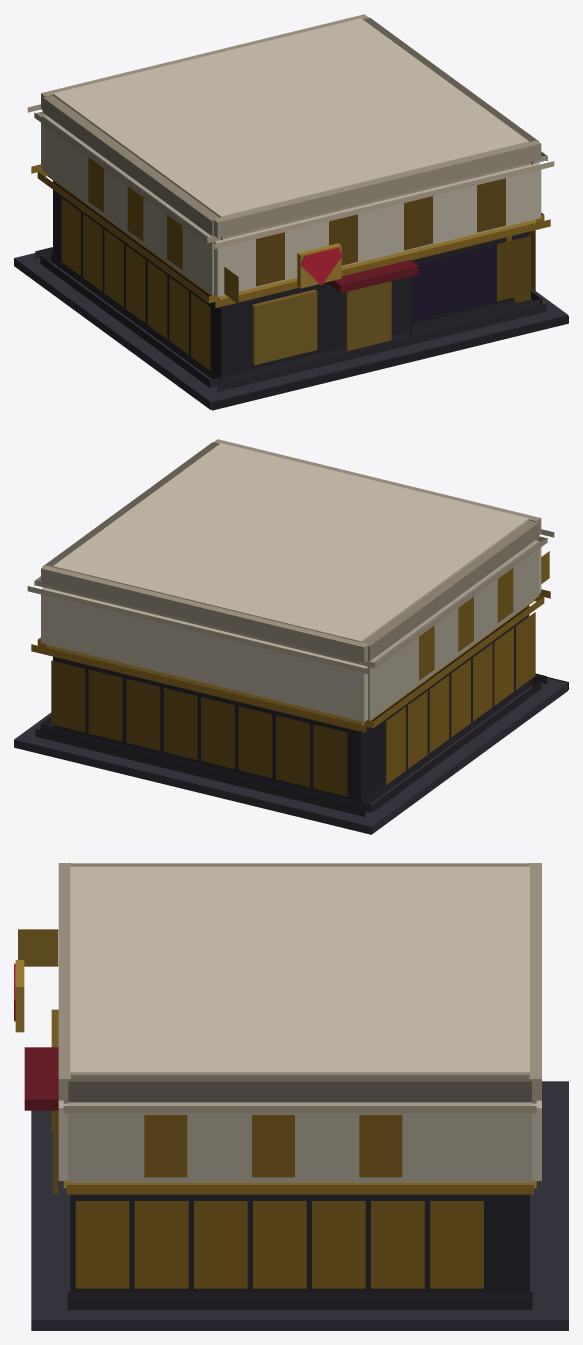
Rendered from RubyThiefSil.fbx.
The picture shows the model from 3 angles, top to bottom: view 1: azimuth 30°, elevation 25°; view 2: azimuth 150°, elevation 25°; view 3: azimuth 270°, elevation 25°; orthographic projection. The views are drawn at different scales.
Parts seen in each view (by area): view 1: JW_S_All; view 2: JW_S_All; view 3: JW_S_All.
Part boxes in pixels (x1=…): JW_S_All: x1=14, y1=14, x2=568, y2=410; JW_S_All: x1=14, y1=439, x2=568, y2=834; JW_S_All: x1=14, y1=863, x2=568, y2=1330.
Bounding box in the file's own units: 42.04 × 19.9 × 41.34.
